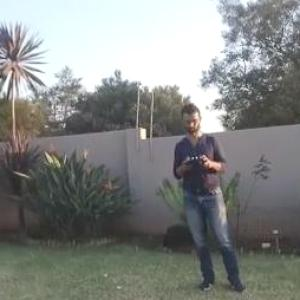follow: (170, 99, 253, 295)
